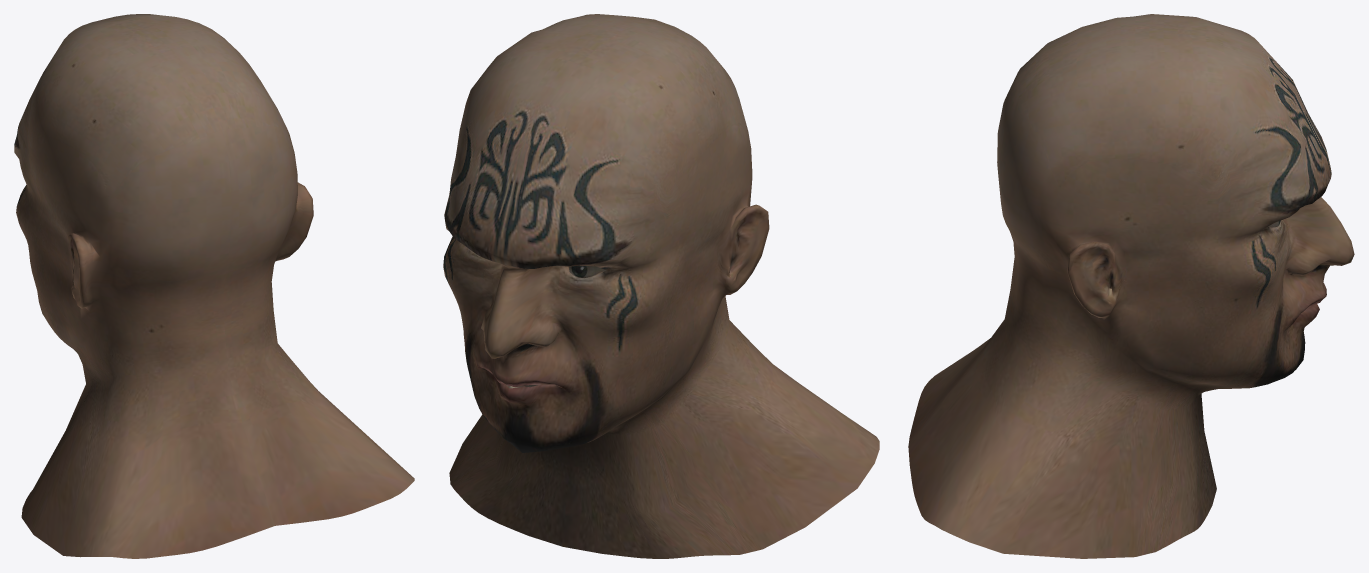
The model's file is G3_Head_Hero_Lester_Animated_01_S00.obj.
3 views of the same model, side by side, from view 1: azimuth 30°, elevation 25°; view 2: azimuth 150°, elevation 25°; view 3: azimuth 270°, elevation 25° (orthographic). The views are drawn at different scales.
Parts seen in each view (by area): view 1: G3_Head_Hero_Special_Lesterr_01; view 2: G3_Head_Hero_Special_Lesterr_01; view 3: G3_Head_Hero_Special_Lesterr_01.
Boxes of the visible parts, x1,y1,x2,y2 form: G3_Head_Hero_Special_Lesterr_01: [14, 14, 414, 558]; G3_Head_Hero_Special_Lesterr_01: [443, 14, 879, 558]; G3_Head_Hero_Special_Lesterr_01: [908, 14, 1354, 558].
Bounding box in the file's own units: 0.259 × 0.3314 × 0.2934.
